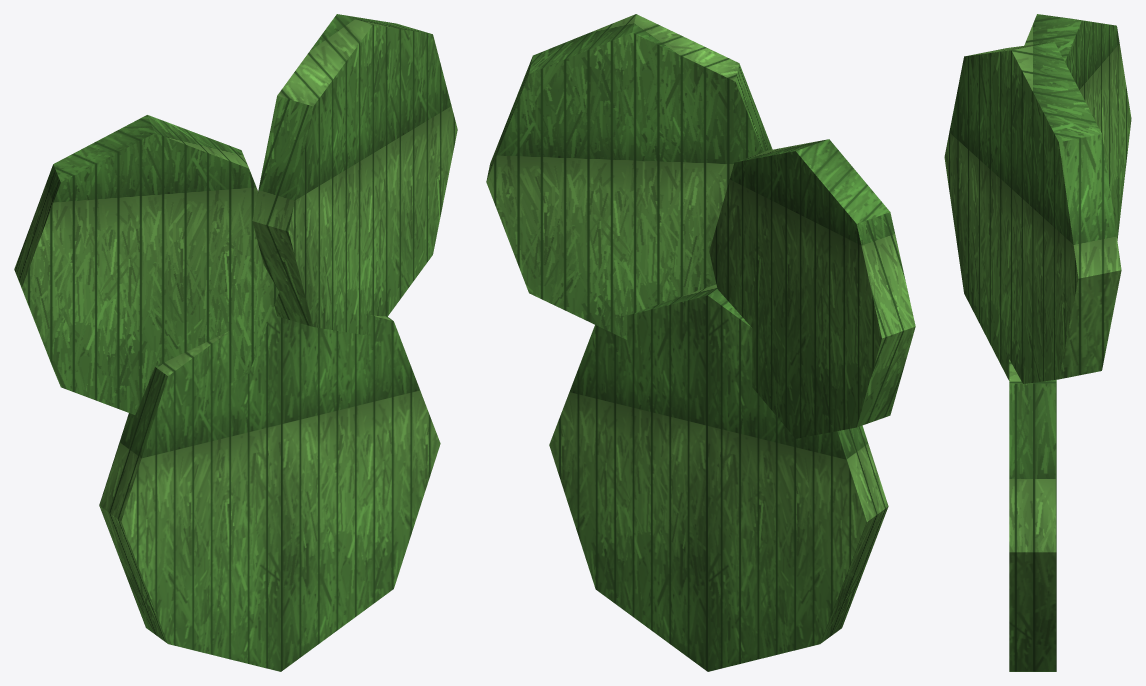
Rendered from nopal.glb.
3 renders of one model, left to right at view 1: azimuth 30°, elevation 25°; view 2: azimuth 150°, elevation 25°; view 3: azimuth 270°, elevation 25°, orthographic. The views are drawn at different scales.
Visible parts, largest first — view 1: Nopal_cuerpo; view 2: Nopal_cuerpo; view 3: Nopal_cuerpo.
Part boxes in pixels (left/top/right/bottom): Nopal_cuerpo: left=14, top=14, right=457, bottom=671; Nopal_cuerpo: left=486, top=14, right=915, bottom=671; Nopal_cuerpo: left=944, top=14, right=1131, bottom=671.
Size of the model in its own units: 2.03 by 2.8 by 0.7078.
Materials: 1 (1 with a texture image).
